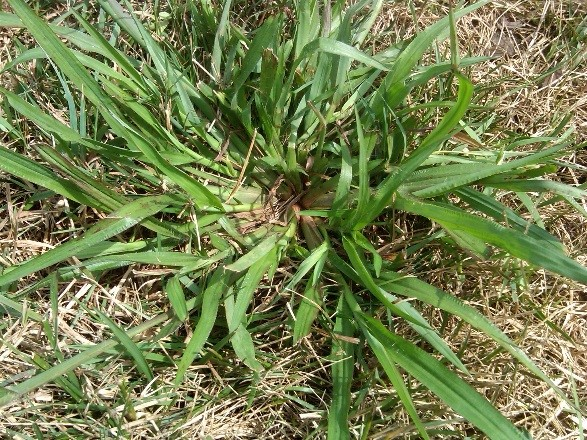crabgrass: (49, 17, 551, 400)
